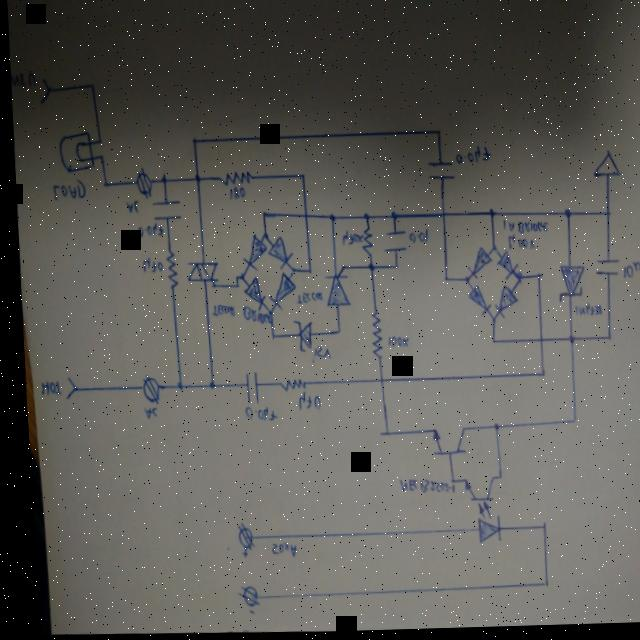capacitor: (147, 196, 177, 223), (423, 160, 450, 185), (377, 229, 401, 256), (237, 371, 254, 405), (589, 260, 615, 281)
crossover: (372, 376, 379, 386), (530, 338, 538, 346), (298, 213, 305, 220), (436, 213, 442, 220)
diode: (551, 267, 582, 306), (262, 274, 291, 311), (236, 236, 263, 271), (487, 286, 513, 321), (262, 238, 288, 270), (461, 249, 487, 281), (238, 277, 261, 312), (461, 288, 486, 318), (286, 320, 307, 354), (491, 254, 512, 282)
ground: (588, 153, 618, 181)
junction: (509, 274, 518, 286), (559, 212, 567, 222), (561, 336, 569, 346), (529, 274, 537, 283), (190, 173, 197, 183), (484, 210, 490, 221), (362, 264, 370, 272), (375, 430, 383, 438), (386, 213, 393, 222), (202, 381, 209, 390), (157, 175, 163, 185), (170, 381, 176, 391), (358, 214, 365, 222), (284, 267, 291, 275), (257, 232, 264, 240), (86, 82, 93, 90), (483, 339, 490, 347), (485, 425, 492, 433), (563, 420, 570, 428), (485, 246, 492, 254), (325, 214, 331, 223), (432, 130, 438, 139), (533, 372, 539, 381), (600, 213, 607, 220), (388, 265, 395, 272), (261, 309, 268, 316), (488, 476, 495, 483), (296, 173, 302, 181), (99, 180, 105, 188), (459, 277, 465, 285), (484, 318, 490, 326), (264, 334, 270, 342), (532, 525, 538, 533), (533, 583, 539, 591), (600, 336, 606, 344), (442, 479, 448, 487), (330, 329, 336, 336), (257, 211, 262, 219), (302, 268, 307, 276), (229, 274, 234, 282), (188, 138, 193, 146), (234, 276, 240, 282), (438, 278, 444, 284), (94, 138, 99, 145), (96, 154, 100, 160), (230, 284, 234, 289)
resistor: (363, 312, 377, 360), (215, 171, 250, 188), (160, 248, 174, 289), (272, 379, 299, 393), (356, 229, 367, 258)
terminal: (228, 585, 250, 607), (229, 523, 246, 549), (36, 77, 49, 104), (57, 376, 70, 399)
text: (391, 480, 446, 496), (497, 220, 544, 237), (48, 178, 81, 201), (451, 147, 488, 167), (236, 305, 265, 325), (237, 406, 269, 423), (290, 393, 313, 412), (132, 222, 159, 238), (502, 236, 529, 252), (262, 542, 288, 558), (617, 263, 640, 281), (8, 71, 34, 86), (568, 306, 597, 319), (336, 230, 359, 246), (291, 291, 317, 305), (33, 380, 55, 396), (137, 257, 158, 273), (404, 229, 423, 245), (381, 337, 403, 350), (206, 305, 229, 317), (307, 346, 325, 361), (225, 187, 242, 202), (136, 405, 151, 419), (121, 200, 135, 213)
thyristor: (317, 266, 346, 308)
transistor: (423, 428, 459, 458)
